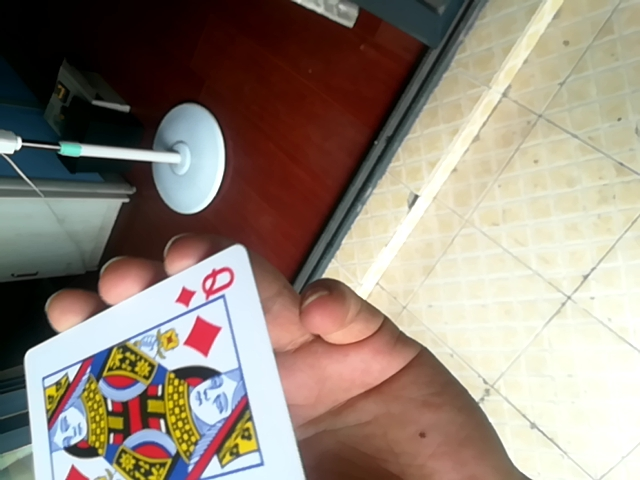fk q: (18, 243, 308, 480)
